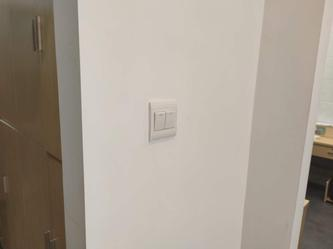switch: (151, 111, 166, 131), (164, 111, 177, 129)
